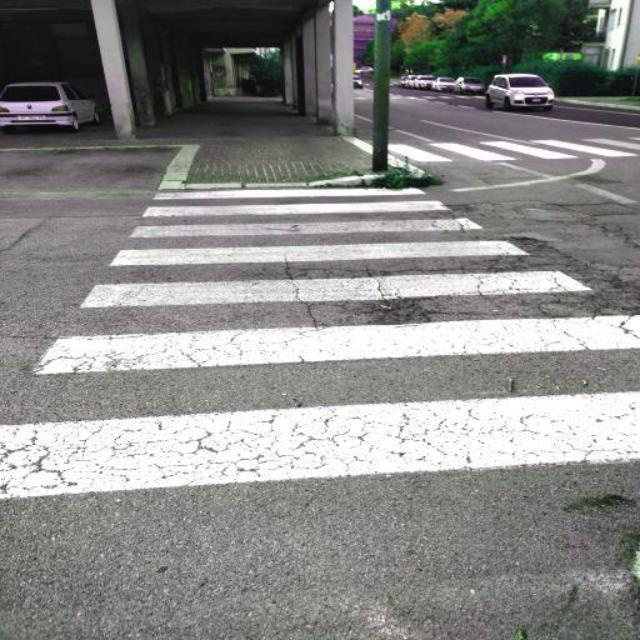sidewalk: (10, 184, 632, 498)
